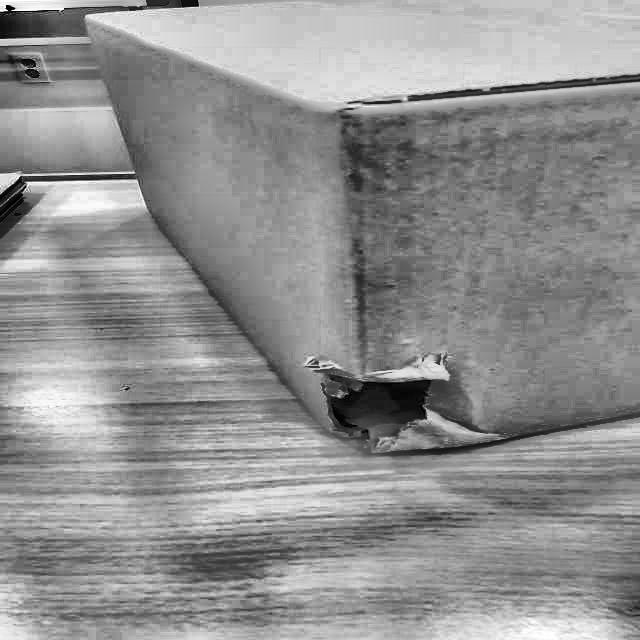box: (66, 0, 639, 475)
hole: (307, 368, 469, 444)
